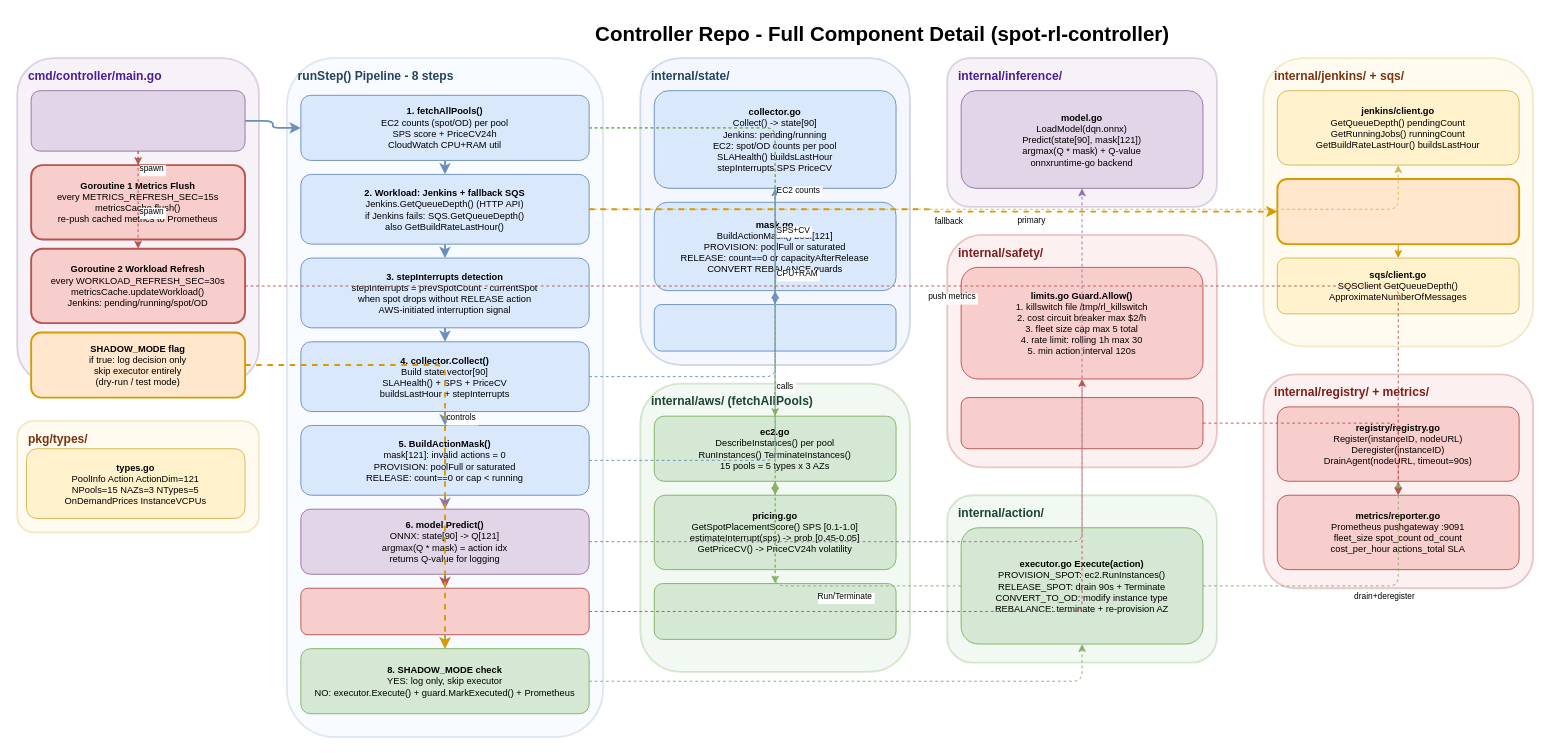
The diagram is 1549 pixels wide and 753 high, and some of its shapes have lost their labels. The shapes that lost their labels are listed below. From the top down, each one's box as (x1, y1, x2, y2) in pixels, then its label:
(30, 90, 245, 151): Main Loop ticker: 900s interval calls runStep()
(1276, 178, 1520, 245): SQS Fallback if Jenkins API fails: sqs.GetQueueDepth() spot-rl-jobs queue
(653, 304, 896, 351): sla.go SLAHealth() -> float32 pending / (running+spot) ratio
(960, 397, 1203, 449): guard.MarkExecuted() Record timestamp + cost for rate/cost tracking
(300, 587, 589, 635): 7. guard.Allow() safety check: killswitch / rate / cost / fleet
(653, 583, 896, 639): cloudwatch.go GetCPUUtilization() per pool GetMemoryUtilization() per pool
